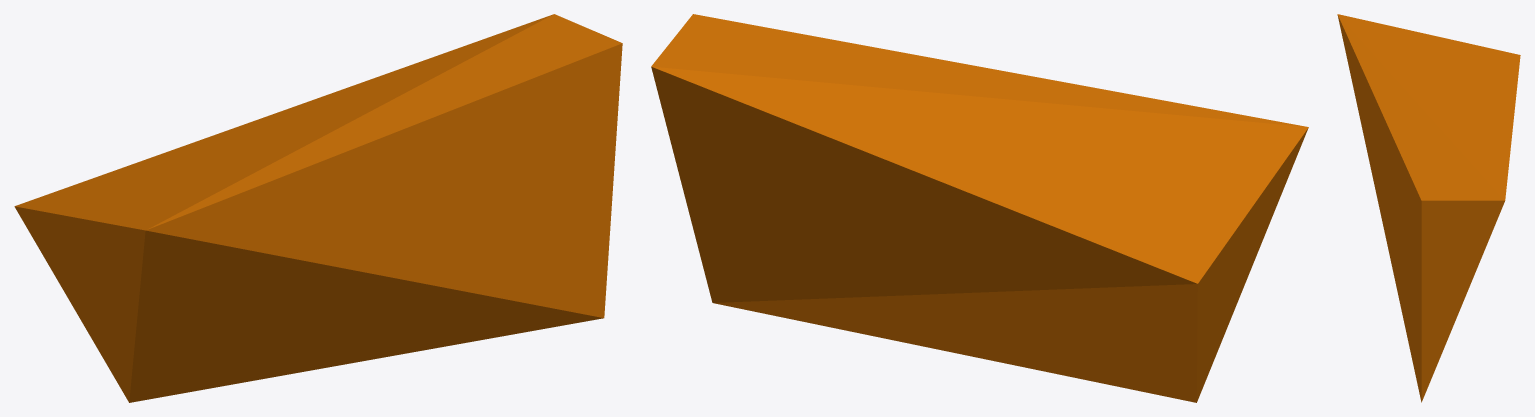
Rendered from garden_table_convex_piece_010.obj.
3 views of the same model, side by side, from view 1: azimuth 30°, elevation 25°; view 2: azimuth 150°, elevation 25°; view 3: azimuth 270°, elevation 25° (orthographic). The views are drawn at different scales.
Size of the model in its own units: 0.1019 by 0.0484 by 0.0384.
